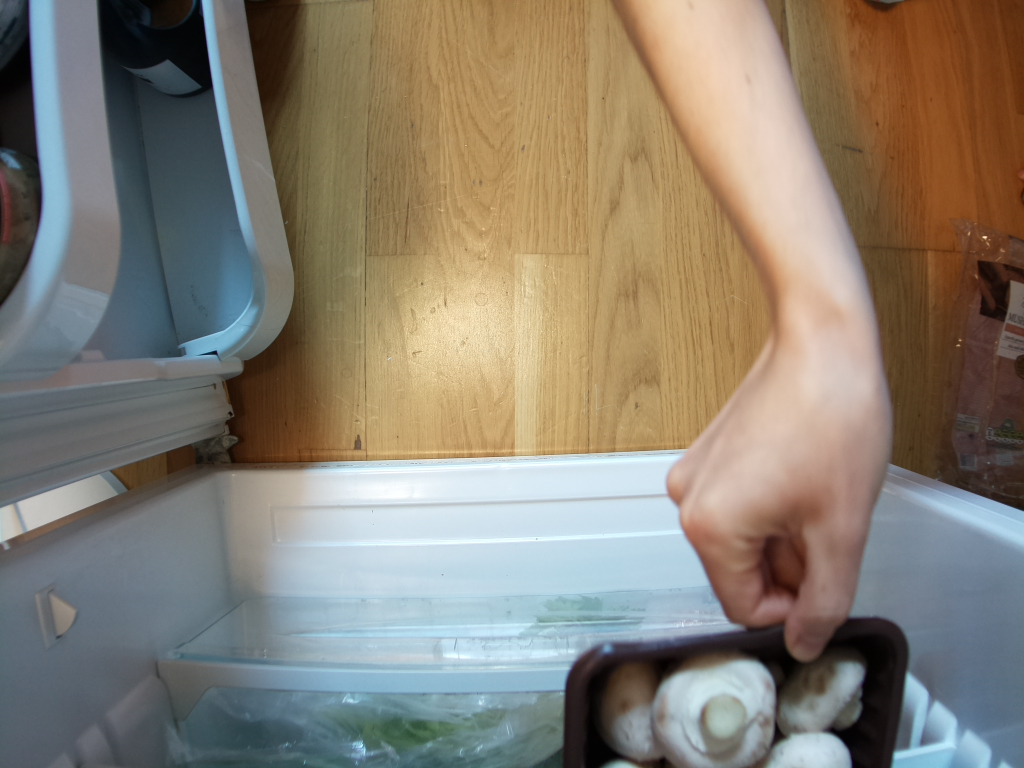mushrooms: (555, 611, 911, 768)
